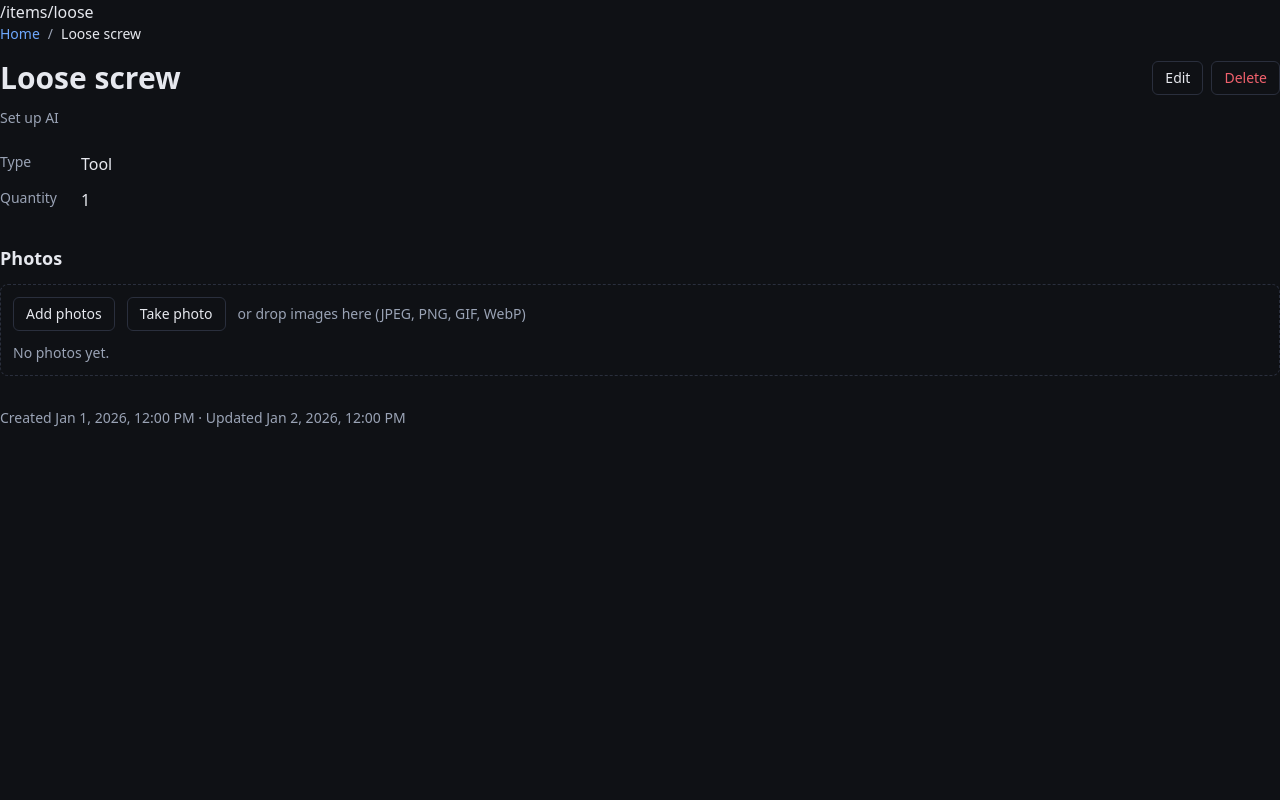
ItemPage delete › goes home when the item has no parent
Click the button "Delete" at [1246, 78], box [1211,61,1279,95]
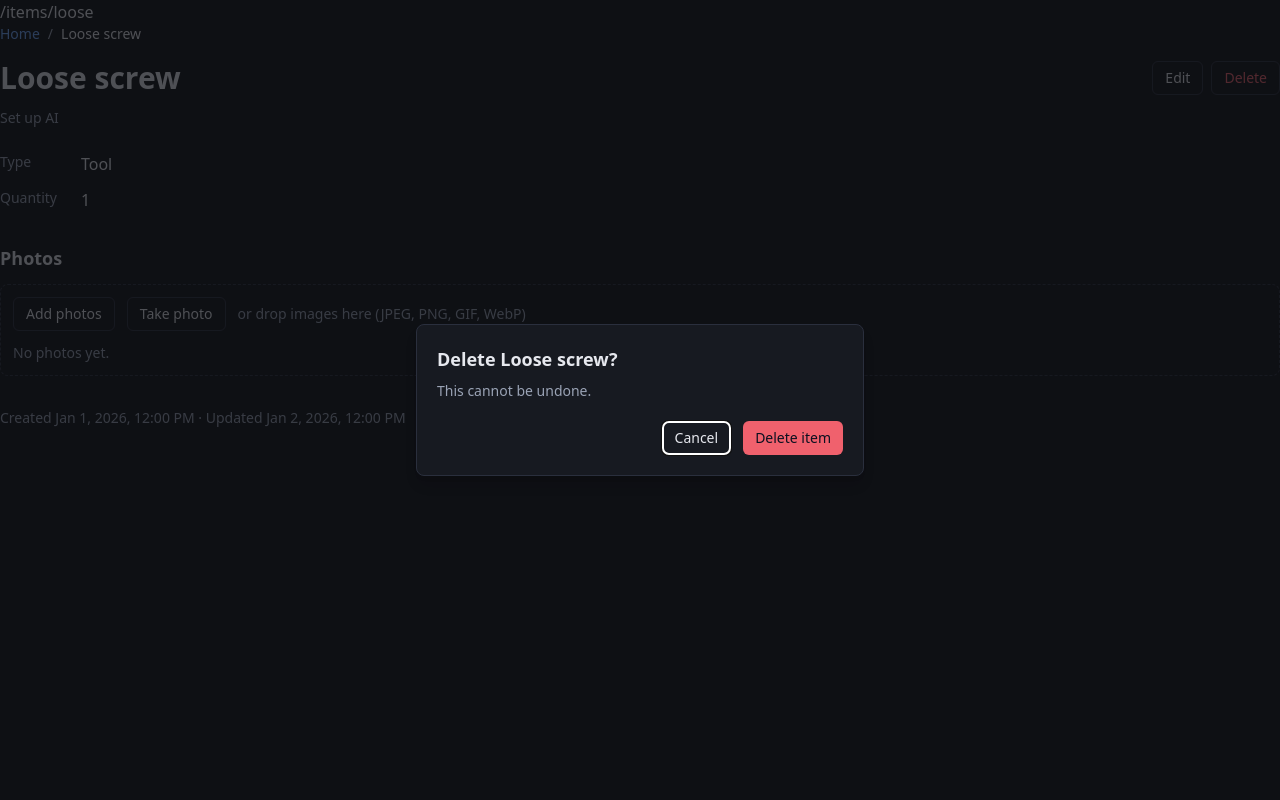
Click the button "Delete item" at [793, 438], box [743,421,843,455]
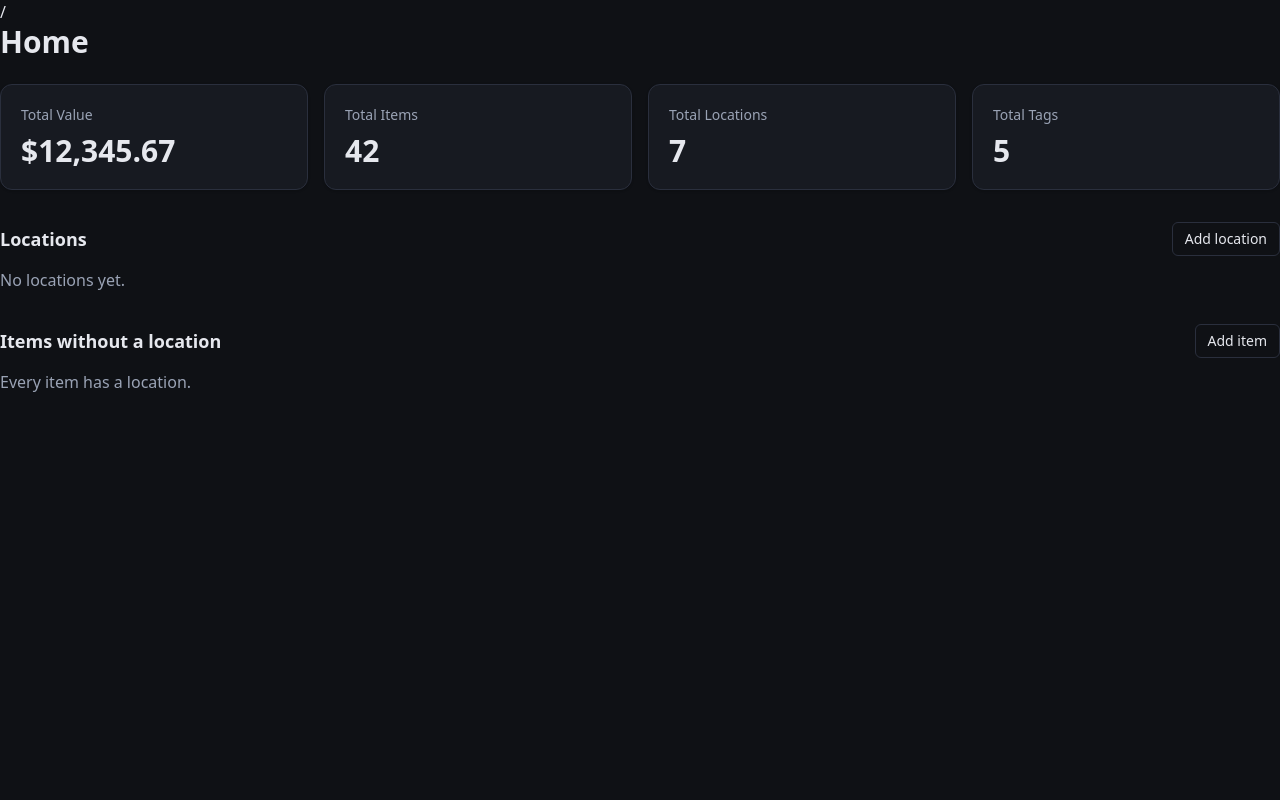
Now the heading "Home" is shown, box [0,21,89,62]
Now the text with test id "current-path" reads "/", box [0,1,6,23]
